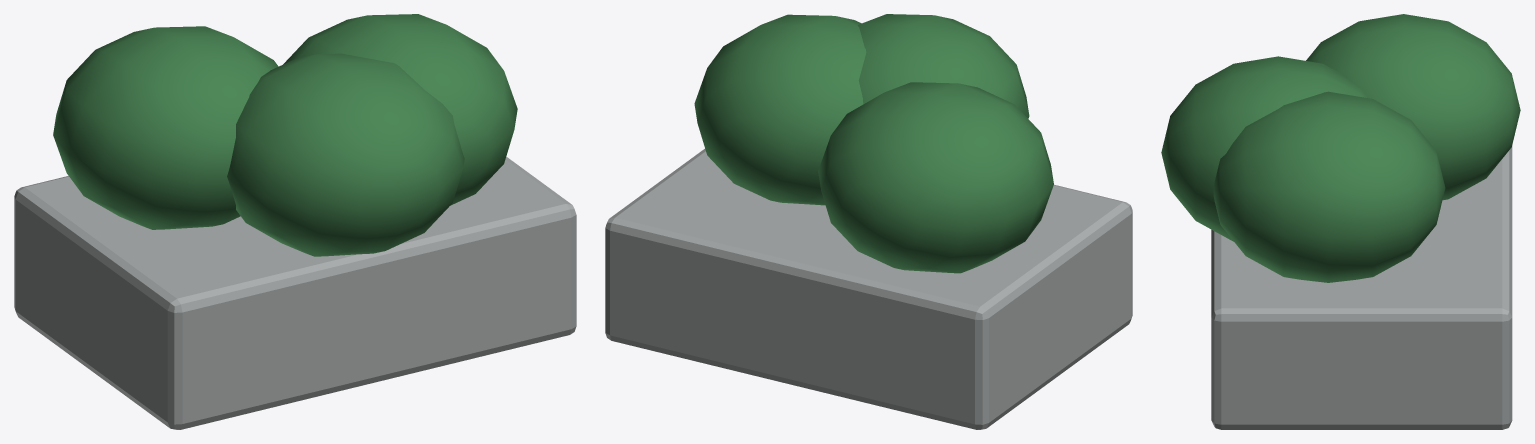
Rendered from plaza_planter.glb.
The picture shows the model from 3 angles, left to right: view 1: azimuth 30°, elevation 25°; view 2: azimuth 150°, elevation 25°; view 3: azimuth 270°, elevation 25°; orthographic projection. The views are drawn at different scales.
Parts seen in each view (by area): view 1: planter, planter_shrub.002, planter_shrub, planter_shrub.001; view 2: planter, planter_shrub, planter_shrub.001, planter_shrub.002; view 3: planter, planter_shrub.001, planter_shrub, planter_shrub.002.
Part boxes in pixels (x1=…): planter: x1=14, y1=157, x2=576, y2=429; planter_shrub.002: x1=227, y1=53, x2=464, y2=256; planter_shrub: x1=53, y1=26, x2=278, y2=229; planter_shrub.001: x1=283, y1=14, x2=517, y2=205; planter: x1=605, y1=149, x2=1132, y2=429; planter_shrub: x1=818, y1=82, x2=1053, y2=273; planter_shrub.001: x1=694, y1=14, x2=866, y2=205; planter_shrub.002: x1=857, y1=14, x2=1029, y2=118; planter: x1=1211, y1=146, x2=1512, y2=429; planter_shrub.001: x1=1213, y1=91, x2=1445, y2=282; planter_shrub: x1=1306, y1=14, x2=1520, y2=200; planter_shrub.002: x1=1161, y1=56, x2=1368, y2=241.
Size of the model in its own units: 0.52 by 0.3592 by 0.43.
